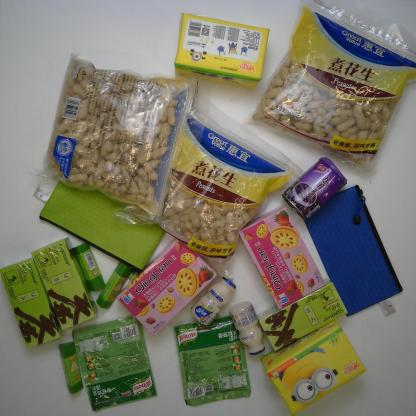Canned Food: (281, 148, 349, 222)
Dessert: (115, 238, 224, 338), (241, 208, 342, 311)
Dried Food: (32, 50, 203, 231), (251, 3, 415, 173), (157, 92, 301, 277)
Instant Drink: (255, 280, 351, 356), (27, 233, 101, 330), (0, 254, 61, 349)
Milk: (186, 269, 238, 330), (228, 300, 272, 357)
Seasoner: (168, 308, 256, 412), (69, 317, 162, 413)
Stationery: (295, 186, 410, 320), (35, 168, 171, 275), (95, 252, 139, 312), (66, 240, 107, 296), (53, 333, 86, 397)
Tissue: (262, 332, 371, 416), (173, 6, 275, 86)
